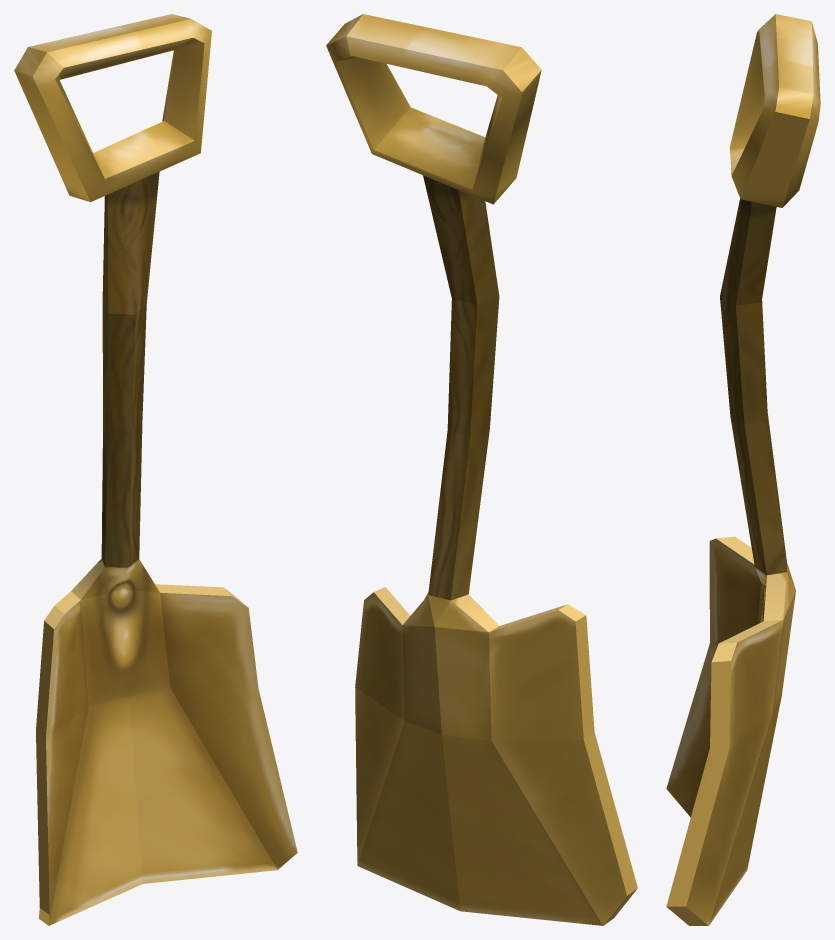
File: GoldShovel.obj
The picture shows the model from 3 angles, left to right: view 1: azimuth 30°, elevation 25°; view 2: azimuth 150°, elevation 25°; view 3: azimuth 270°, elevation 25°; orthographic projection. The views are drawn at different scales.
Visible parts, largest first — view 1: pasted__shovelD pasted__group1 group; view 2: pasted__shovelD pasted__group1 group; view 3: pasted__shovelD pasted__group1 group.
Boxes of the visible parts, bbox=[...] form: pasted__shovelD pasted__group1 group: bbox=[14, 14, 297, 925]; pasted__shovelD pasted__group1 group: bbox=[326, 14, 637, 925]; pasted__shovelD pasted__group1 group: bbox=[666, 14, 820, 925].
Size of the model in its own units: 0.9125 by 2.92 by 0.4972.
1 material, 1 textured.
